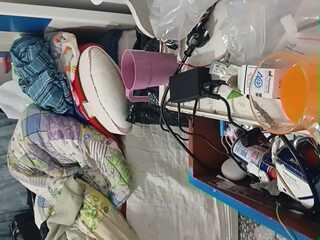cup: (135, 184, 251, 239), (184, 90, 253, 133), (141, 187, 193, 232), (200, 90, 253, 102)
